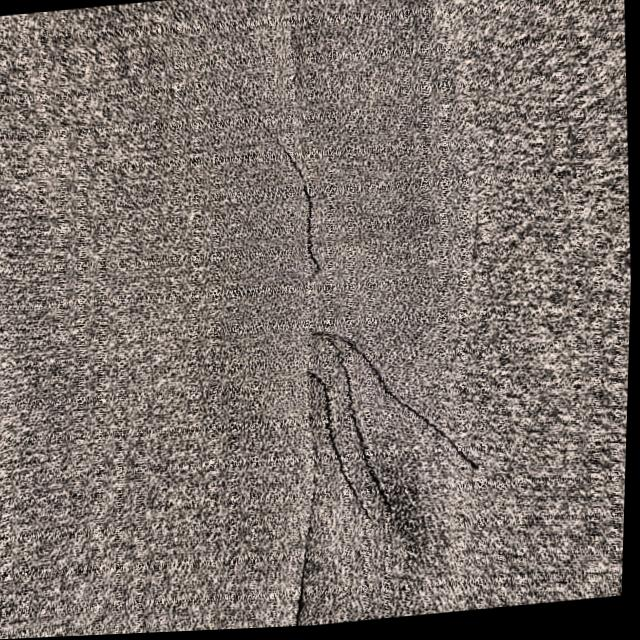Stitch: (284, 305, 479, 541), (242, 142, 363, 298)
